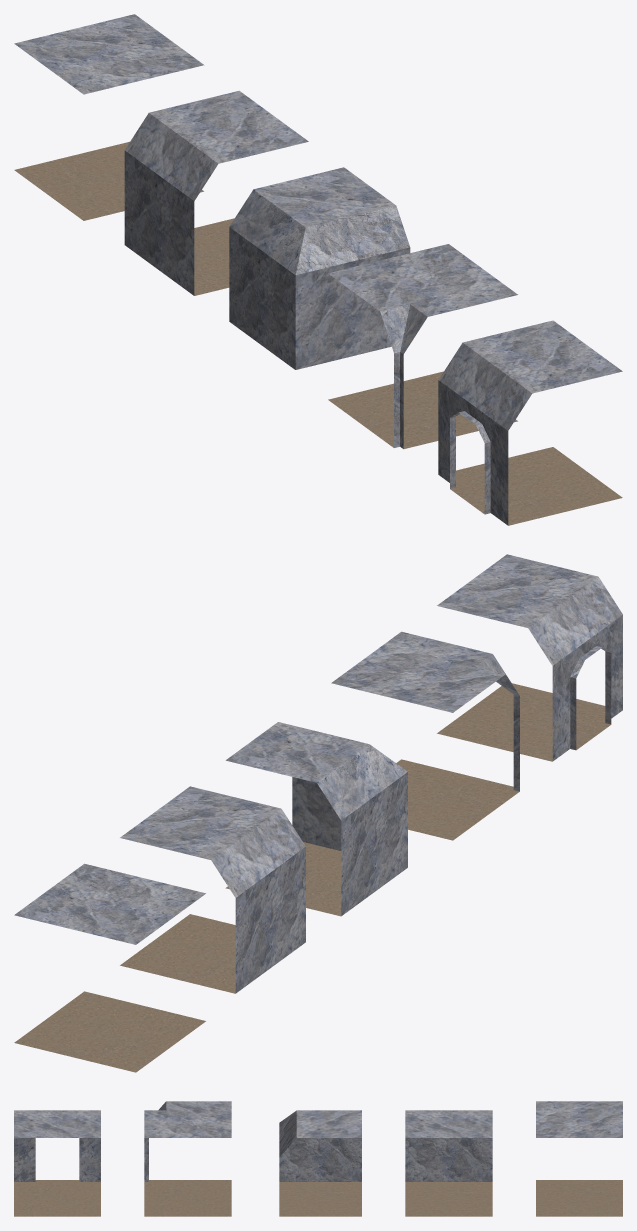
Rendered from DungeonTilesTextured.glb.
3 renders of one model, top to bottom at view 1: azimuth 30°, elevation 25°; view 2: azimuth 150°, elevation 25°; view 3: azimuth 270°, elevation 25°, orthographic. The views are drawn at different scales.
Parts seen in each view (by area): view 1: Corner-col, Doorway-col, Wall-col, Inner-col, Floor-col; view 2: Wall-col, Doorway-col, Corner-col, Floor-col, Inner-col; view 3: Wall-col, Corner-col, Doorway-col, Inner-col, Floor-col.
Boxes of the visible parts, box(x1,y1,x2,y2) form: Corner-col: box(229, 167, 410, 369); Doorway-col: box(438, 320, 622, 525); Wall-col: box(124, 90, 308, 295); Inner-col: box(328, 244, 517, 449); Floor-col: box(14, 14, 204, 220); Wall-col: box(120, 786, 305, 993); Doorway-col: box(437, 554, 622, 761); Corner-col: box(225, 722, 407, 916); Floor-col: box(14, 863, 205, 1072); Inner-col: box(331, 631, 519, 840); Wall-col: box(405, 1110, 492, 1216); Corner-col: box(279, 1110, 361, 1216); Doorway-col: box(14, 1110, 100, 1216); Inner-col: box(144, 1101, 231, 1216); Floor-col: box(536, 1101, 622, 1216).
Bounding box in the file's own units: 2 × 2 × 14.
3 materials, 3 textured.
